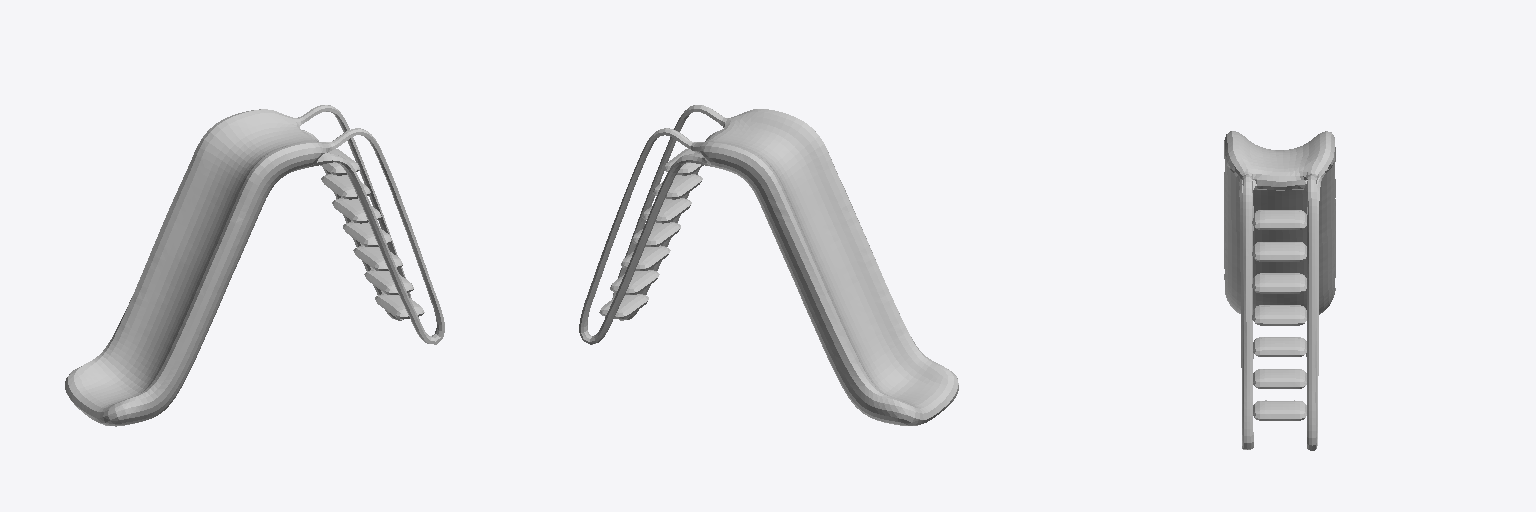
Rendered from zjezdzlp2 — kopia.OBJ.
3 views of the same model, side by side, from view 1: azimuth 30°, elevation 25°; view 2: azimuth 150°, elevation 25°; view 3: azimuth 270°, elevation 25° (orthographic).
Visible parts, largest first — view 1: ZBrush_defualt_group; view 2: ZBrush_defualt_group; view 3: ZBrush_defualt_group.
Boxes of the visible parts, box(x1,y1,x2,y2) form: ZBrush_defualt_group: box(65, 105, 444, 426); ZBrush_defualt_group: box(579, 105, 958, 425); ZBrush_defualt_group: box(1224, 131, 1335, 450).
Bounding box in the file's own units: 176 × 122 × 49.42.